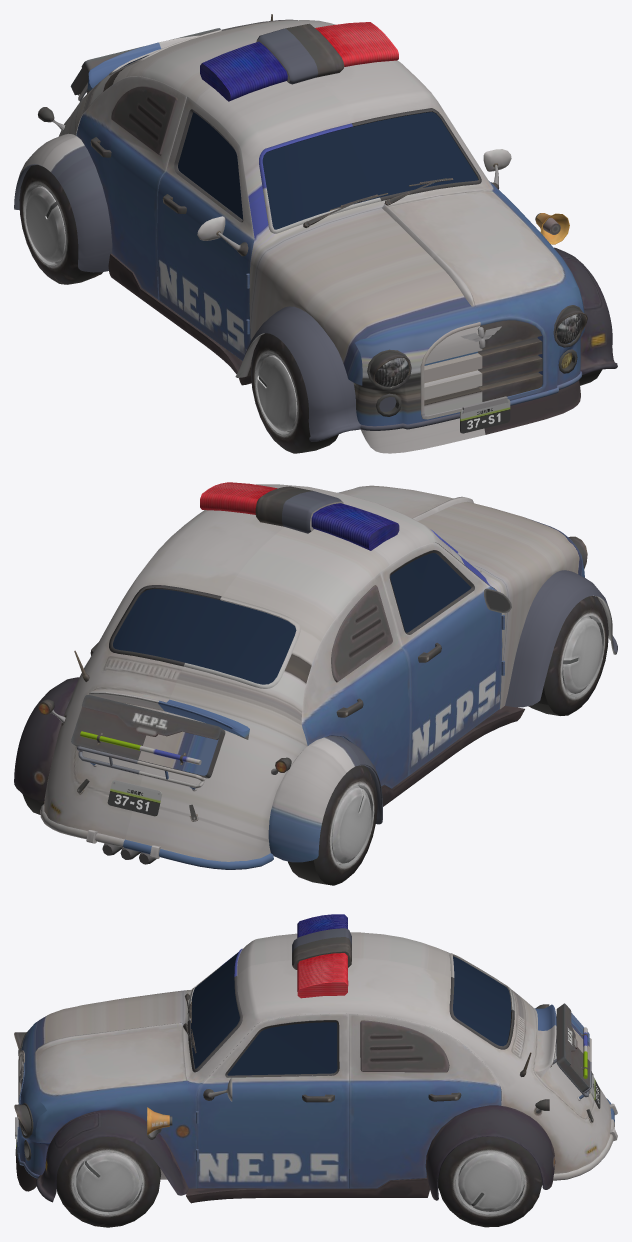
File: police-car.glb
3 renders of one model, top to bottom at view 1: azimuth 30°, elevation 25°; view 2: azimuth 150°, elevation 25°; view 3: azimuth 270°, elevation 25°, orthographic. The views are drawn at different scales.
Bounding box in the file's own units: 2.24 × 1.87 × 4.4.
Materials: 2 (1 with a texture image).
